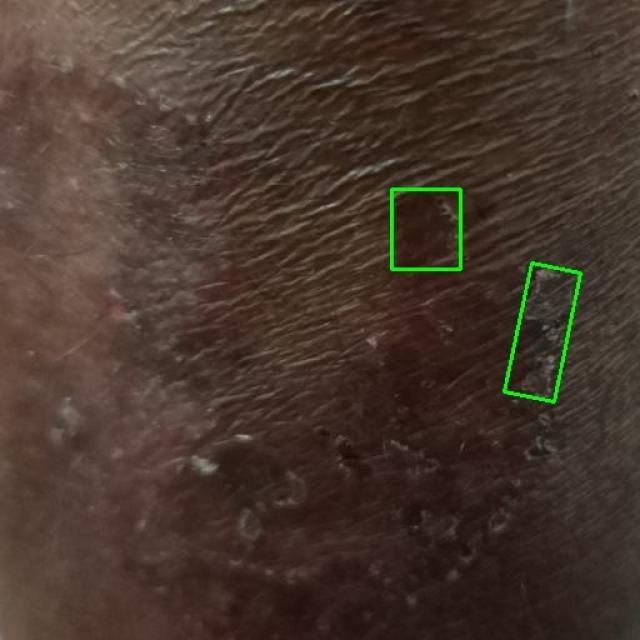Tinea Corporis: (505, 263, 581, 402), (391, 189, 460, 269)
